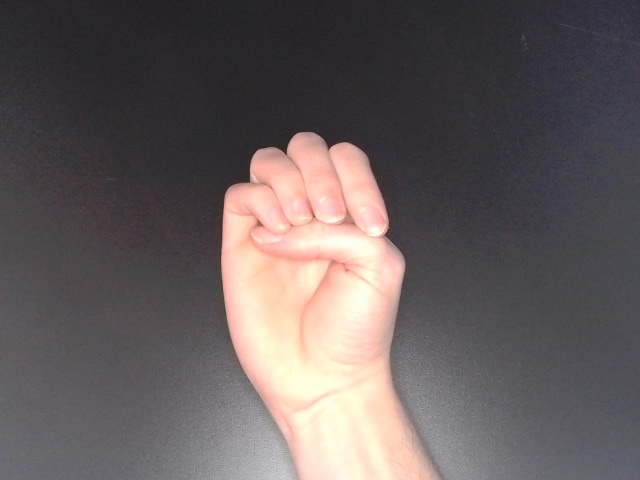e: (214, 128, 411, 426)
